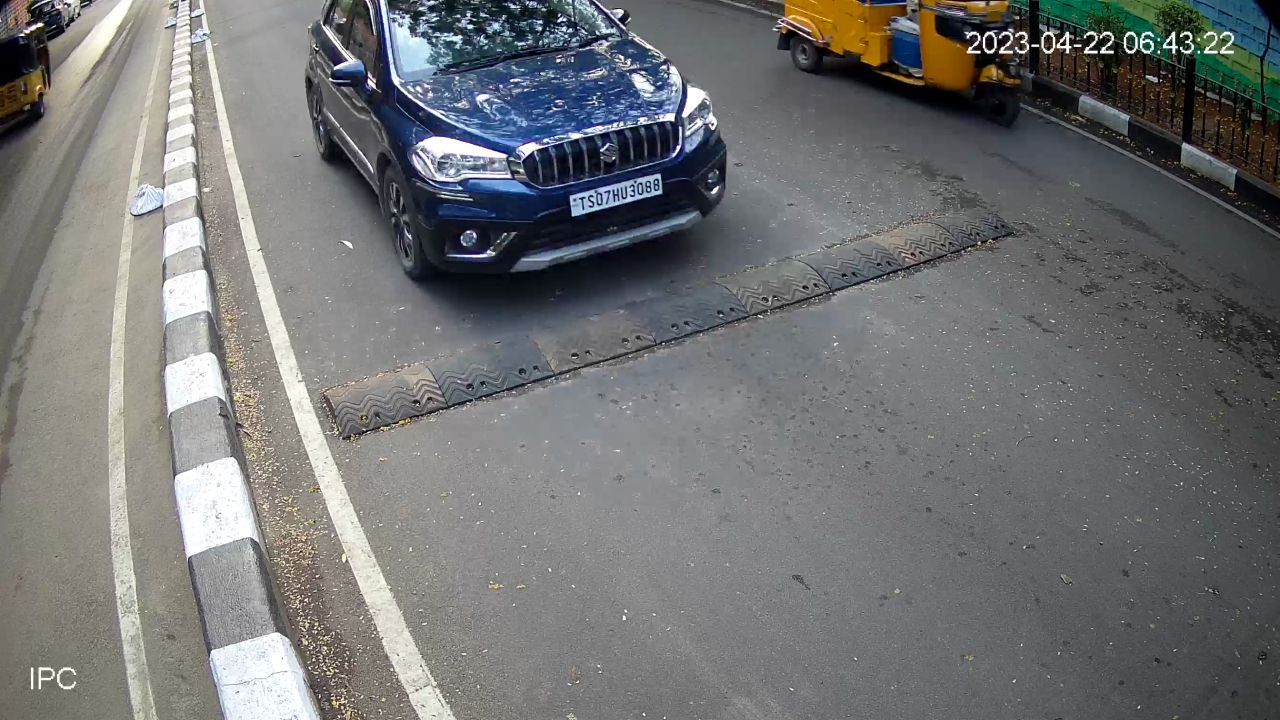license_plate: (566, 167, 665, 221)
